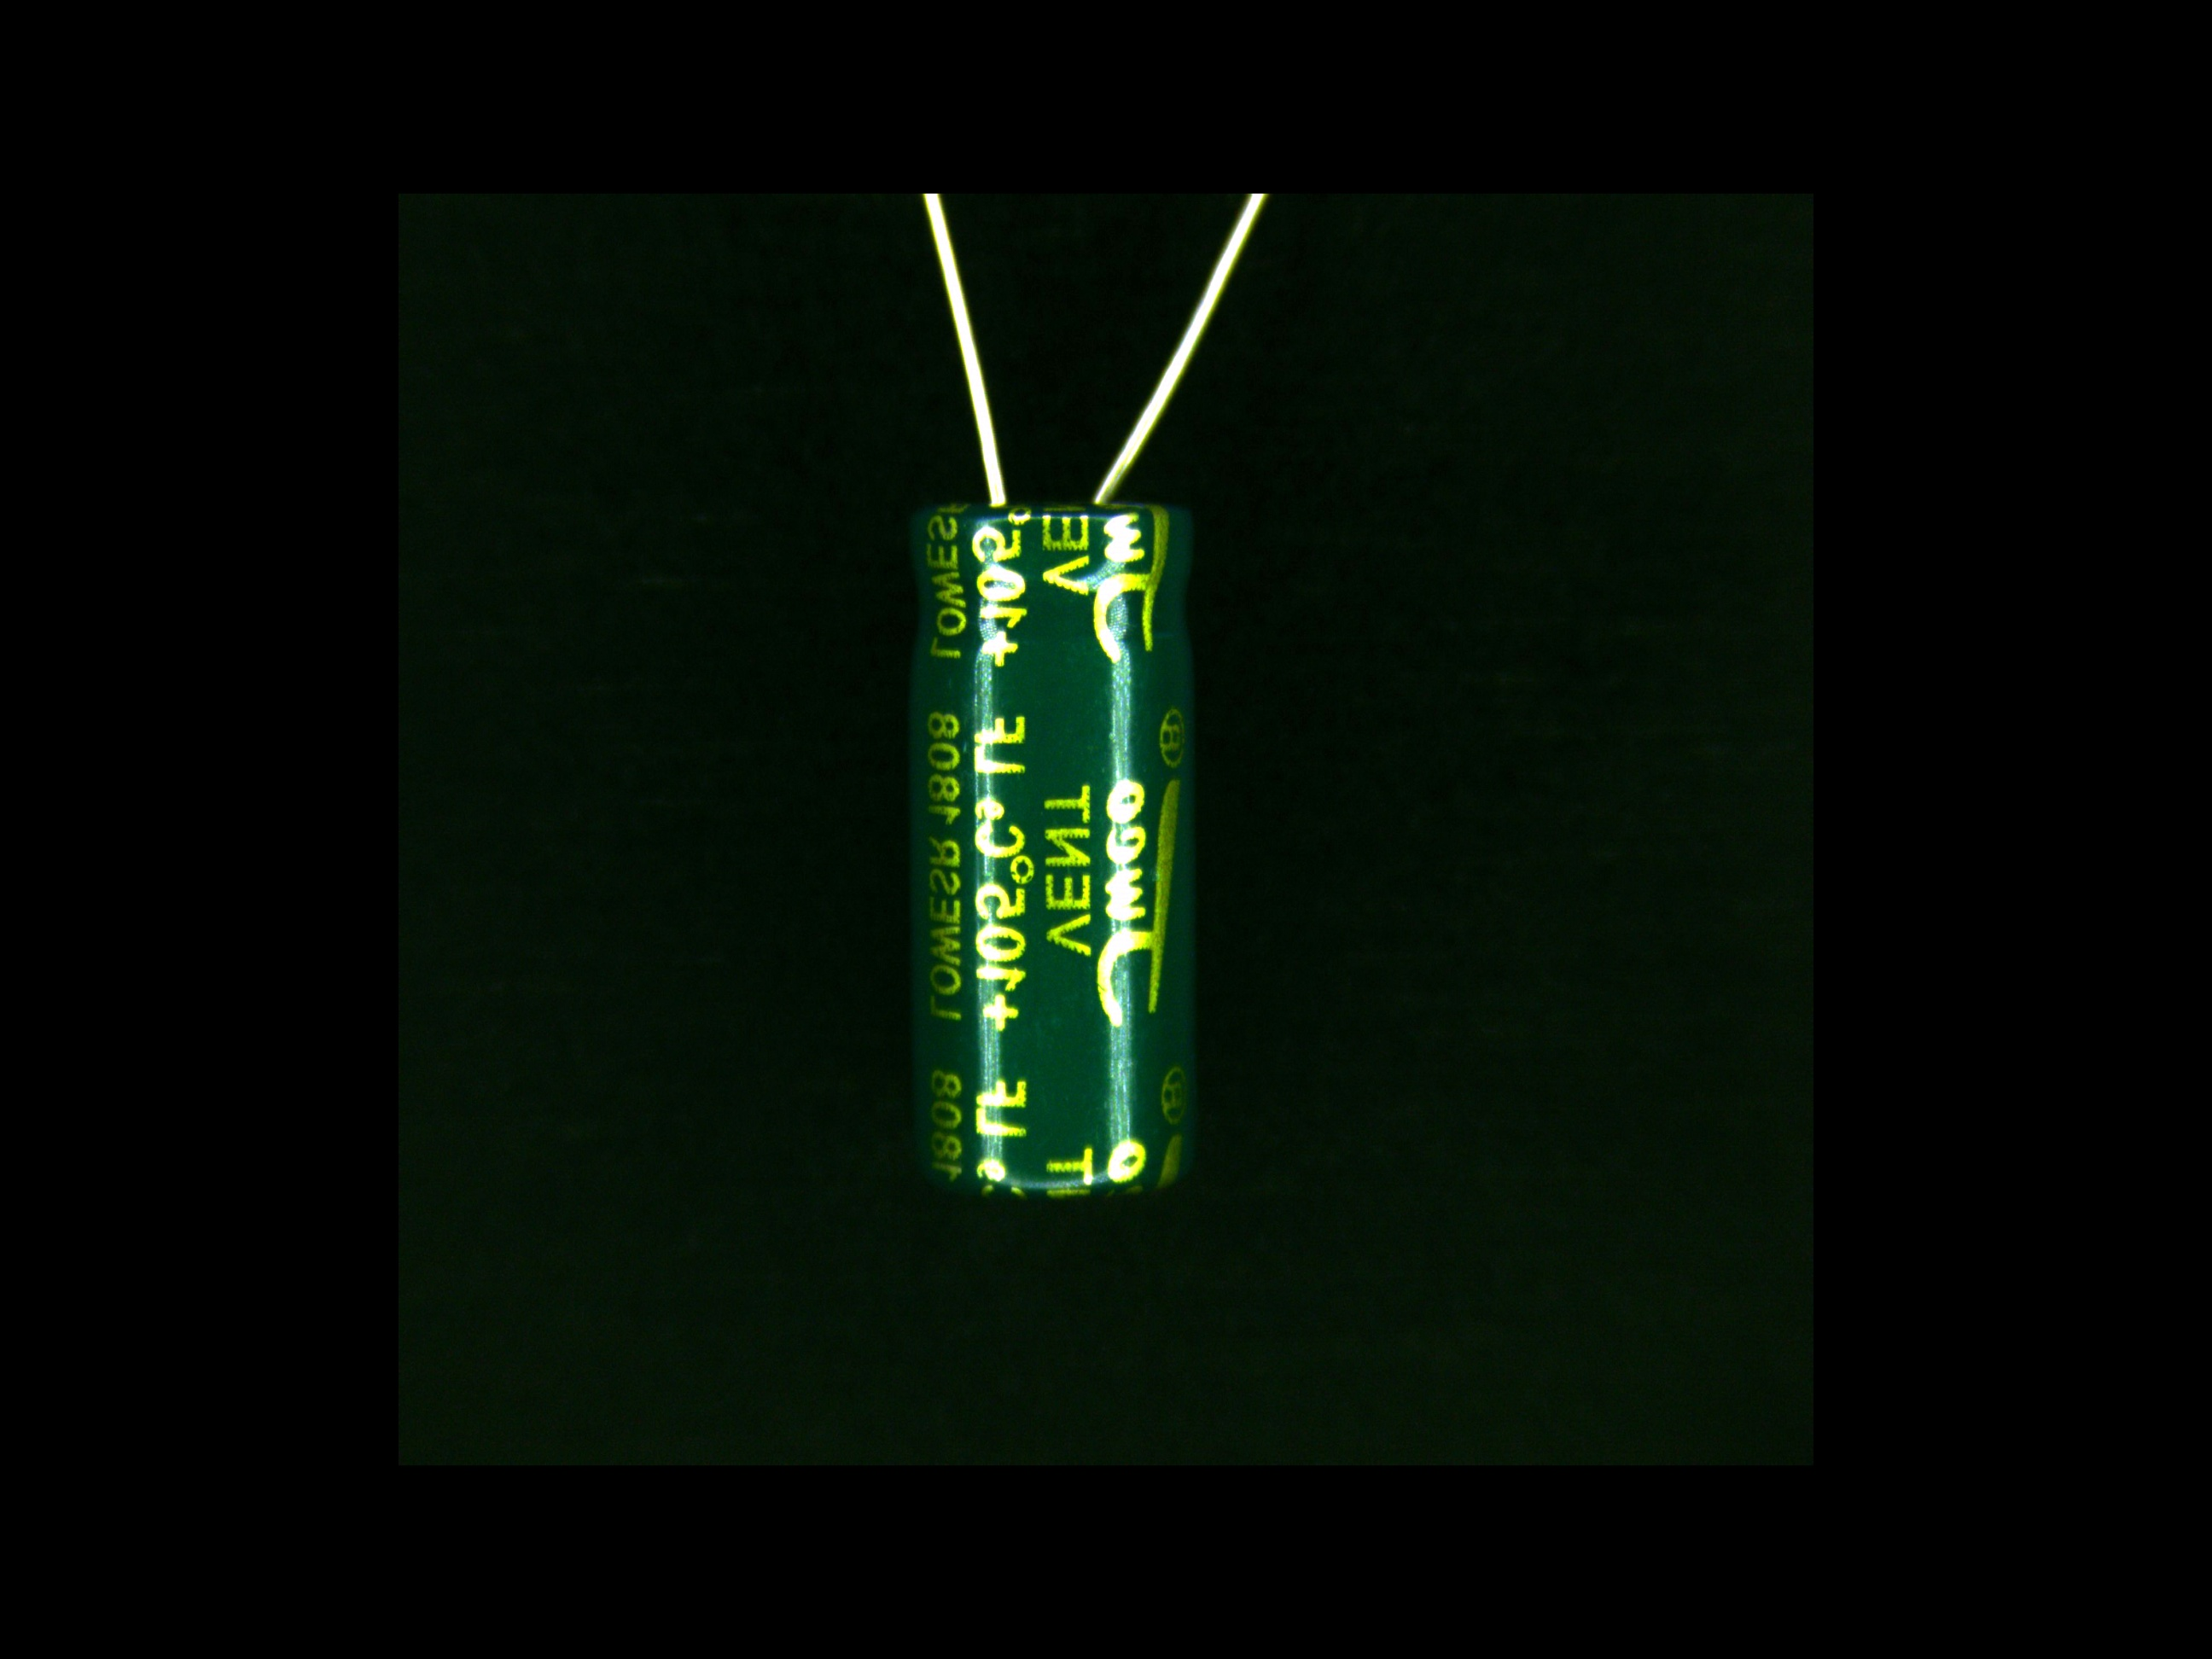c1: (907, 342, 1200, 1202)
